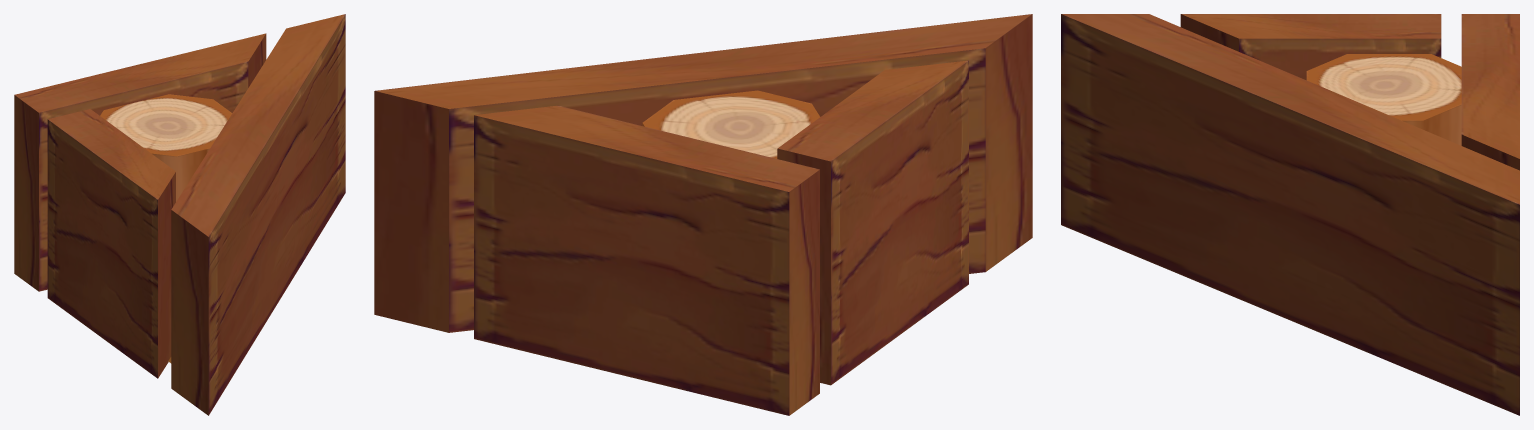
Rendered from triangle_wood_01.fbx.
The picture shows the model from 3 angles, left to right: view 1: azimuth 30°, elevation 25°; view 2: azimuth 150°, elevation 25°; view 3: azimuth 270°, elevation 25°; orthographic projection. The views are drawn at different scales.
Parts seen in each view (by area): view 1: wall_25, wall_26, wall_27, Middle_11; view 2: wall_27, wall_25, wall_26, Middle_11; view 3: wall_25, wall_26, Middle_11, wall_27.
Part boxes in pixels (x1=…): wall_25: x1=171, y1=14, x2=345, y2=415; wall_26: x1=47, y1=109, x2=175, y2=378; wall_27: x1=14, y1=33, x2=266, y2=291; Middle_11: x1=100, y1=94, x2=232, y2=201; wall_27: x1=474, y1=105, x2=819, y2=415; wall_25: x1=374, y1=14, x2=1032, y2=332; wall_26: x1=777, y1=60, x2=968, y2=385; Middle_11: x1=642, y1=90, x2=819, y2=158; wall_25: x1=1061, y1=14, x2=1519, y2=415; wall_26: x1=1180, y1=14, x2=1441, y2=80; Middle_11: x1=1306, y1=54, x2=1461, y2=145; wall_27: x1=1461, y1=14, x2=1519, y2=170.
Size of the model in its own units: 77.57 by 40 by 78.8.
